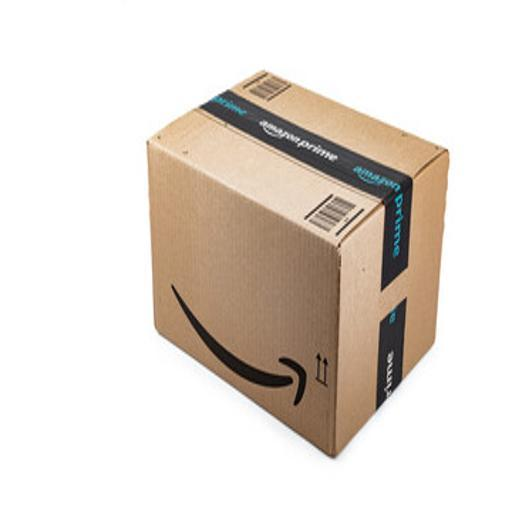Amazon: (147, 68, 455, 461)
